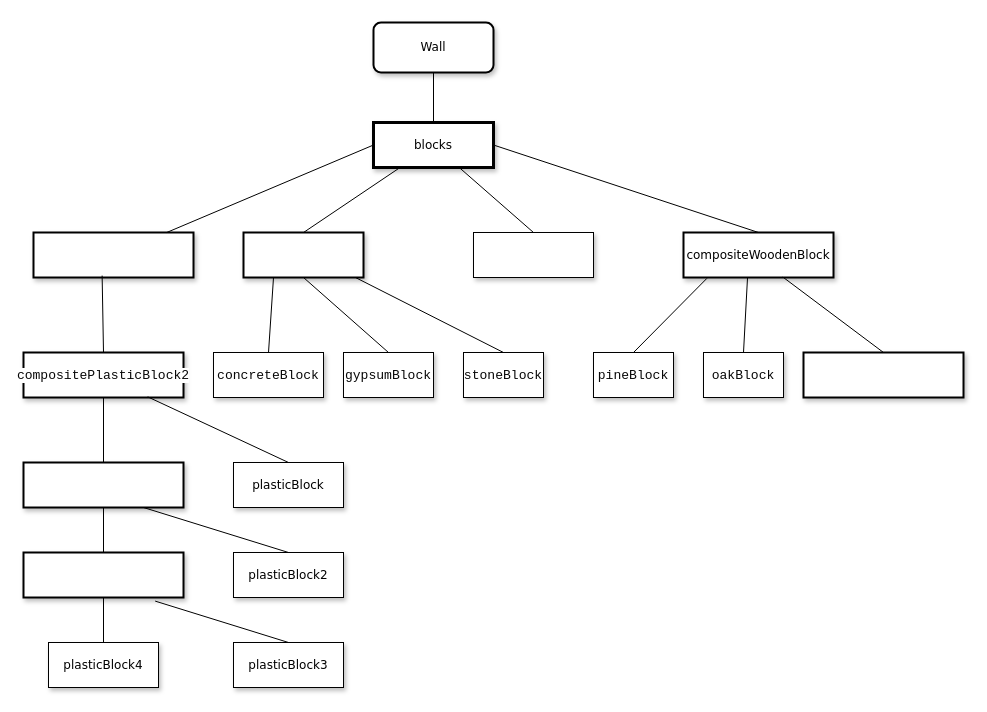
Image size: 987x712. Some labels were removed from this diagram. Here are the shapes that lost their labels. From the top down, the centre of each, then its label:
the point at 114,256: compositePlasticBlock
the point at 304,256: compositeBlock
the point at 534,256: brickBlock
the point at 884,376: compositeWoodenBlock2
the point at 104,486: compositePlasticBlock3
the point at 104,576: compositePlasticBlock4
